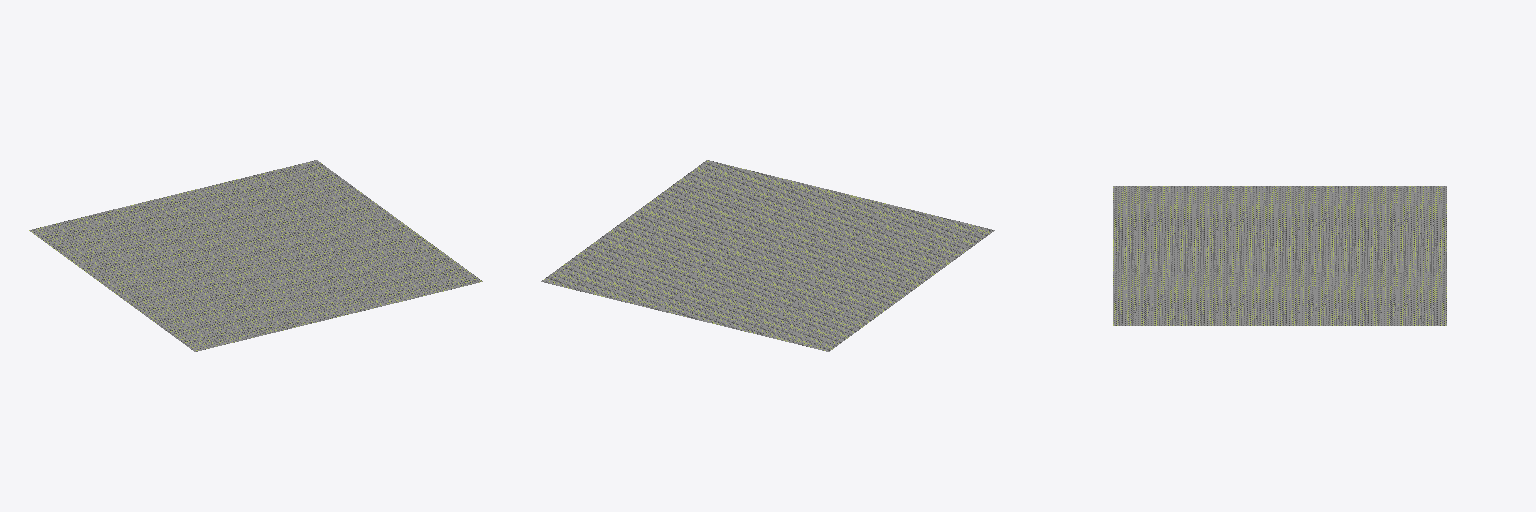
The picture shows the model from 3 angles: view 1: azimuth 30°, elevation 25°; view 2: azimuth 150°, elevation 25°; view 3: azimuth 270°, elevation 25°; orthographic projection.
Visible parts, largest first — view 1: Cube; view 2: Cube; view 3: Cube.
Boxes of the visible parts, box(x1,y1,x2,y2) form: Cube: box(29, 160, 482, 351); Cube: box(541, 160, 994, 351); Cube: box(1113, 186, 1446, 325).
Size of the model in its own units: 100 by 0 by 100.
1 materials, 1 textured.